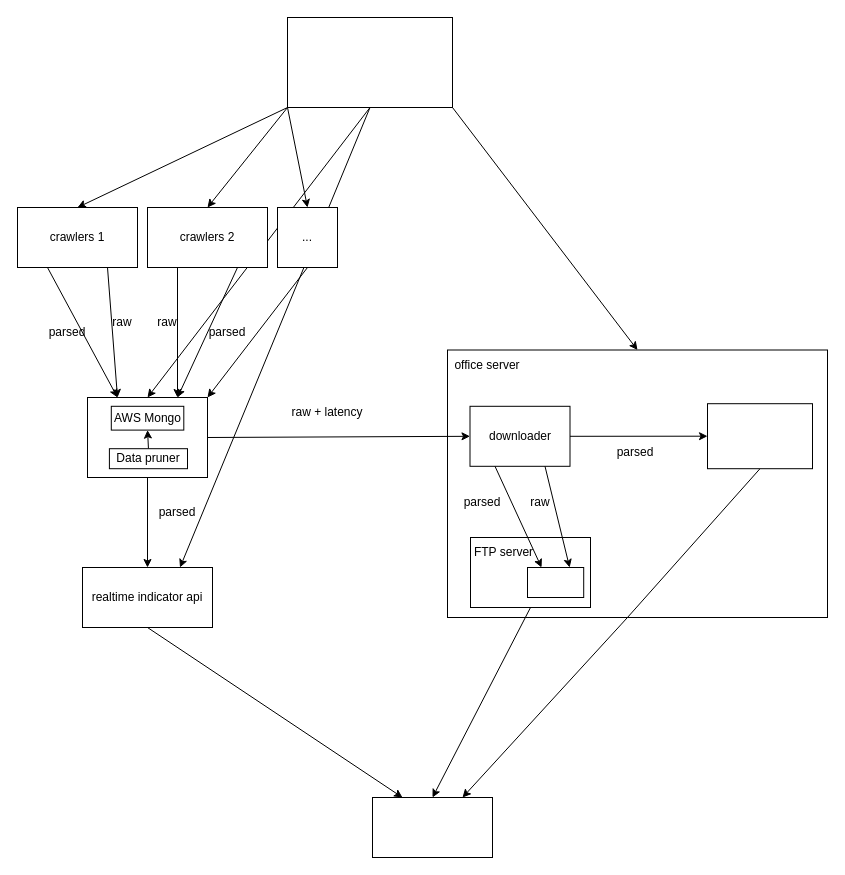
This 845x875 diagram has some shape labels left out. Here are the shapes that lost their labels. From the top down, the centre of each, then its label:
point 369,62: crawler monitor (weak seperate instance)
point 759,436: mongo
point 555,582: CSV.zst
point 432,827: Users
